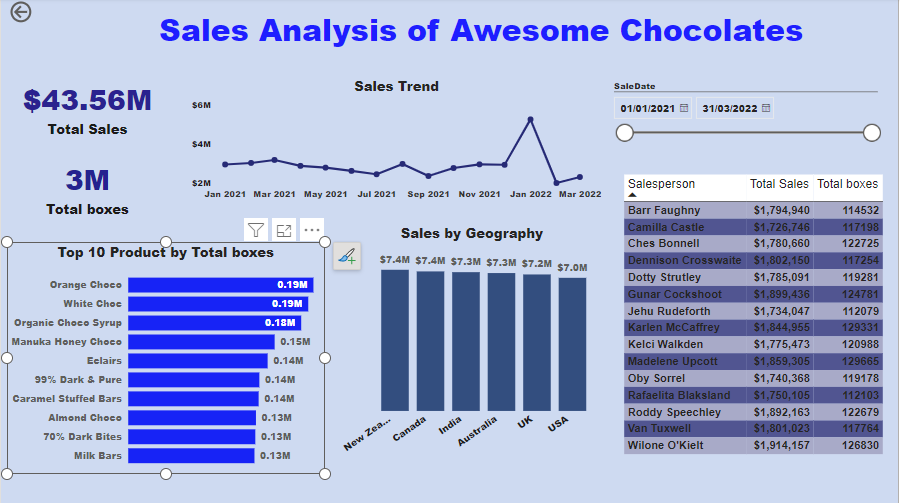

This screenshot's page, from the dashboard's own definition file:
{"tool":"powerbi","page":{"name":"Page 1","canvas":[1280,720],"ordinal":0},"visuals":[{"type":"card","fields":{"Values":["sales.Total Sales"]},"box":[8.6,109.9,229.7,94.2],"z":0},{"type":"card","fields":{"Values":["sales.Total boxes"]},"box":[9,220.6,229.7,99.4],"z":1000},{"type":"barChart","title":"Sales by Geography","fields":{"Category":["geo.Geo"],"Y":["sales.Total Sales"]},"box":[289.7,319.6,572.2,302.5],"z":2000},{"type":"lineChart","title":"Sales Trend","fields":{"Y":["sales.Total Sales"],"Category":["sales.SaleDate.Variation.Date Hierarchy.Year","sales.SaleDate.Variation.Date Hierarchy.Month"]},"box":[289.7,109.9,572.2,188.4],"z":3000},{"type":"actionButton","box":[0,0,100,40],"z":4000},{"type":"tableEx","fields":{"Values":["people.Salesperson","sales.Total Sales","sales.Total boxes"]},"box":[861.9,137,418.1,480.9],"z":5000},{"type":"textbox","box":[206.5,10.3,957.4,59.4],"z":6000},{"type":"tableEx","fields":{"Values":["products.Product","sales.Total boxes"]},"box":[9,347.1,289,313.5],"z":7000}]}

Visuals, with their boxes in screenshot pixels (x1, y1, x2, y2), scaled from the page's 1280x720 canvas onto the 900x503 screenshot:
card - sales.Total Sales: [6,77,168,143]
card - sales.Total boxes: [6,154,168,224]
"Sales by Geography" barChart: [204,223,606,435]
"Sales Trend" lineChart: [204,77,606,208]
actionButton: [0,0,70,28]
tableEx - people.Salesperson x sales.Total Sales: [606,96,899,432]
textbox: [145,7,818,49]
tableEx - products.Product x sales.Total boxes: [6,242,210,462]
